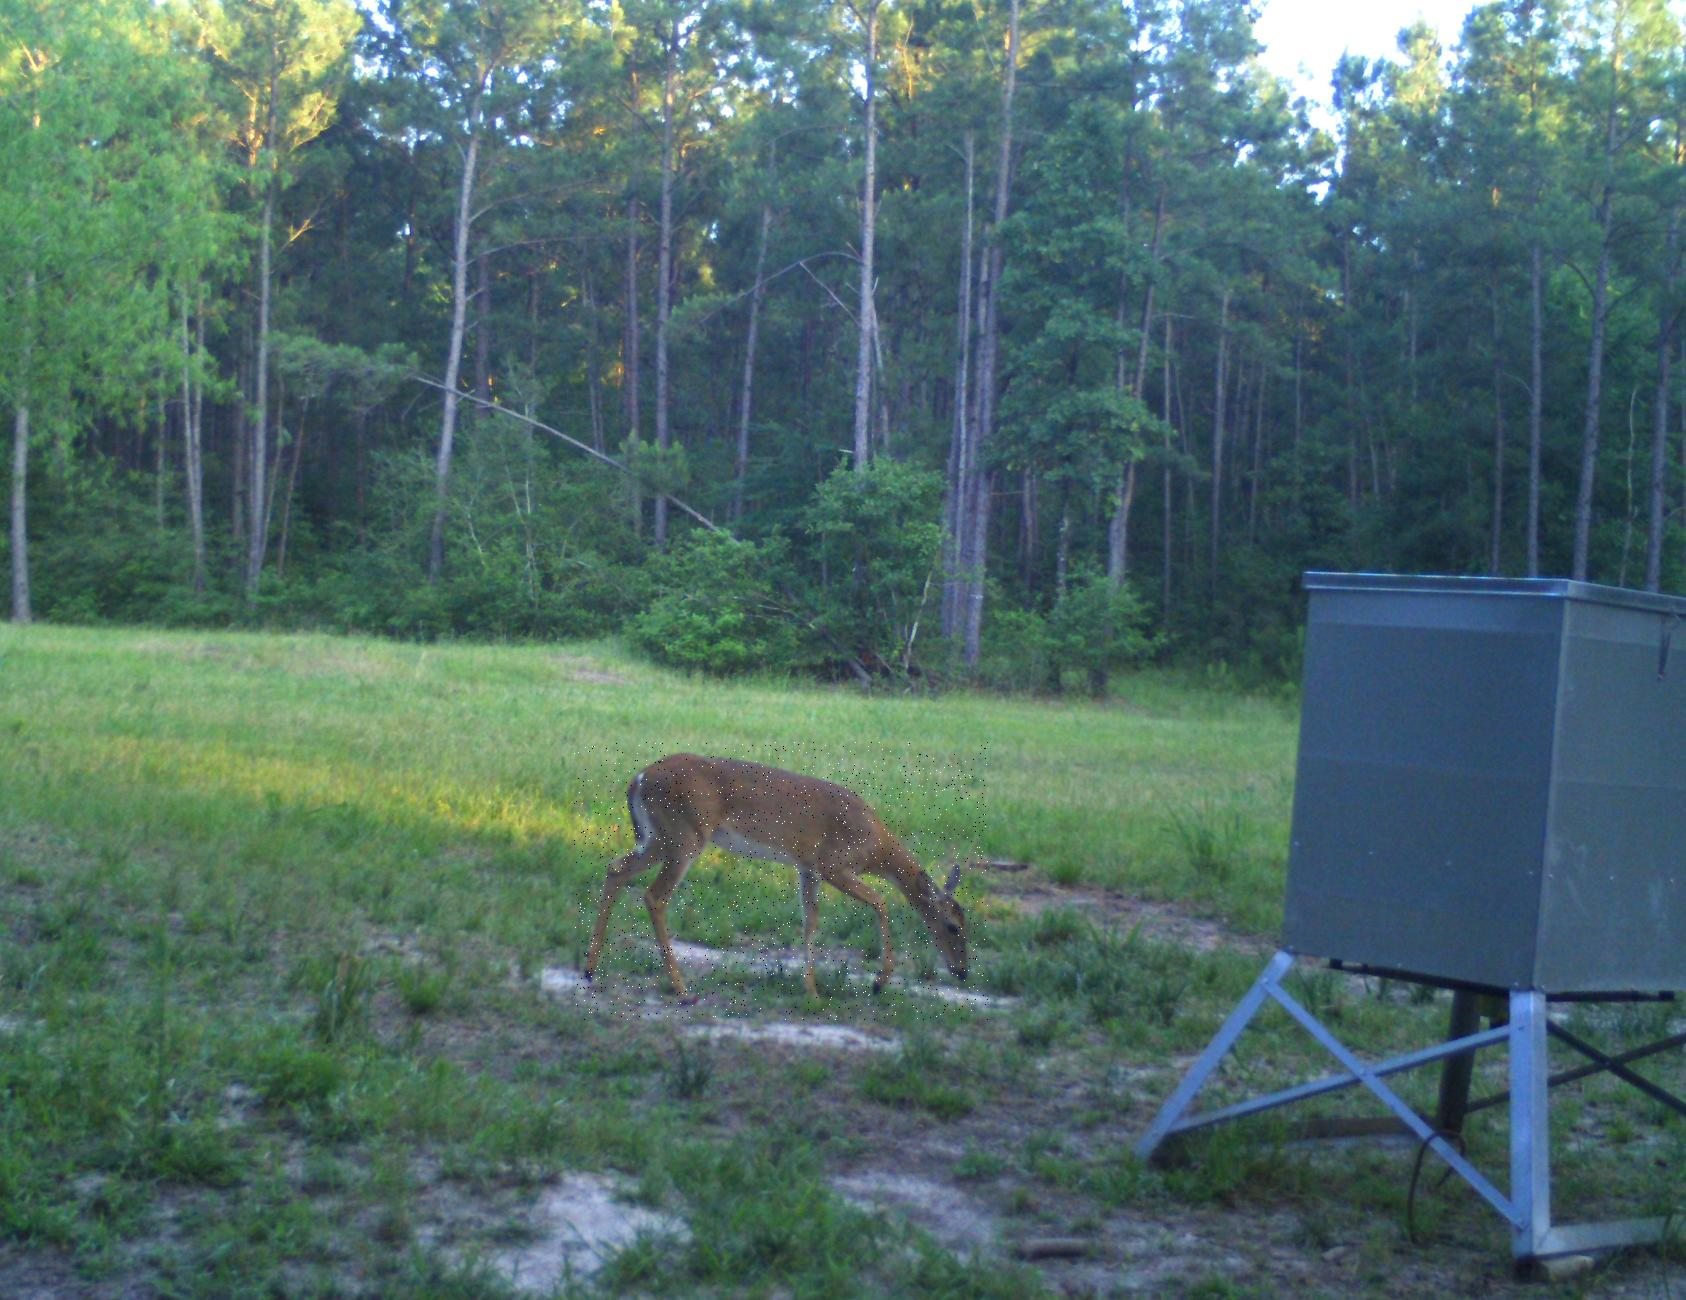Deer: (573, 741, 988, 1020)
